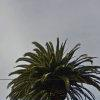Palm tree: (13, 32, 97, 100)
